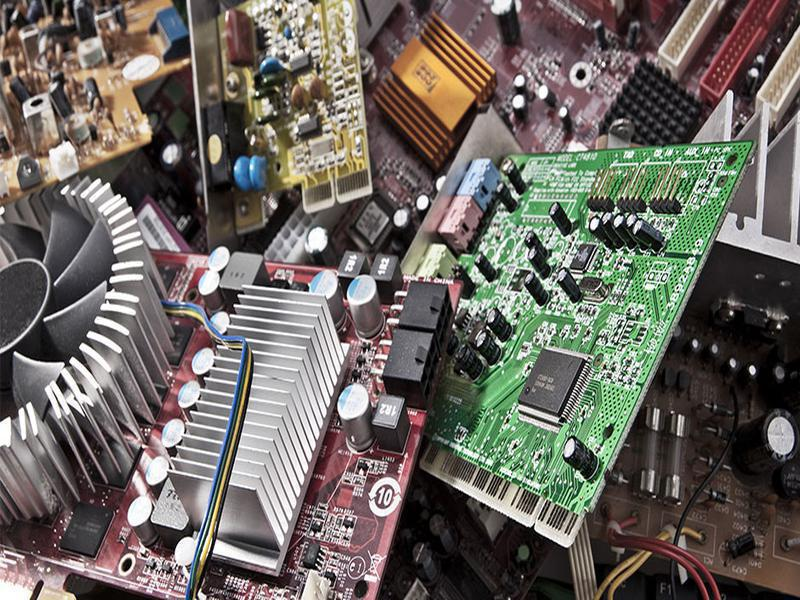circuit_board: (1, 173, 457, 600), (413, 135, 753, 544), (181, 1, 378, 231), (1, 1, 201, 194)
